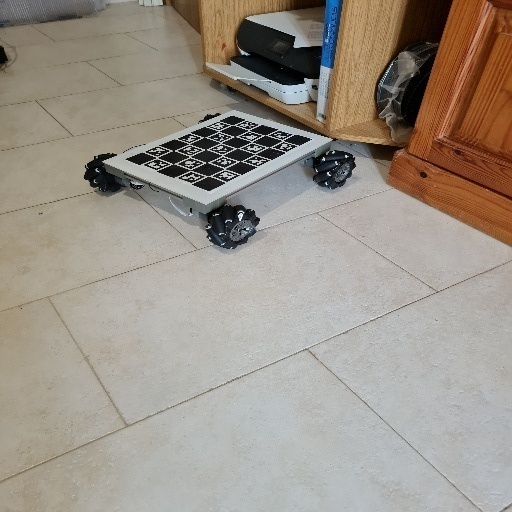Omniwheel: (82, 110, 357, 252)
